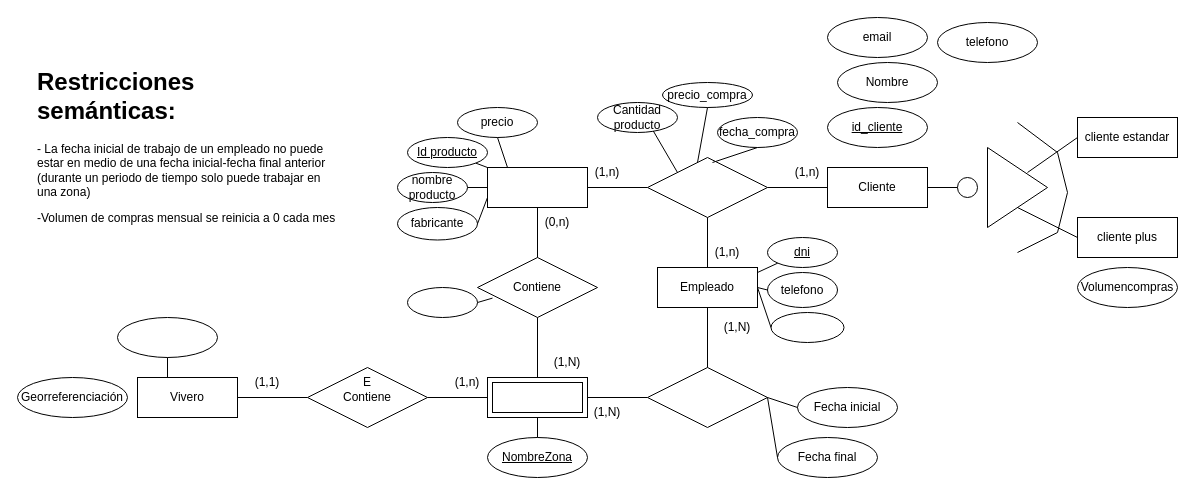
The diagram is 1195 pixels wide and 495 high, and some of its shapes have lost their labels. The box of each missing label's shape, as (x1, y1, x2, y2) in pixels:
Correo: (770, 312, 844, 342)
NombreVivero: (116, 316, 218, 358)
Producto: (486, 166, 588, 208)
Stock: (406, 286, 478, 318)
Trabaja: (646, 366, 768, 428)
Venta: (646, 156, 768, 218)
Zona: (486, 376, 588, 418)
